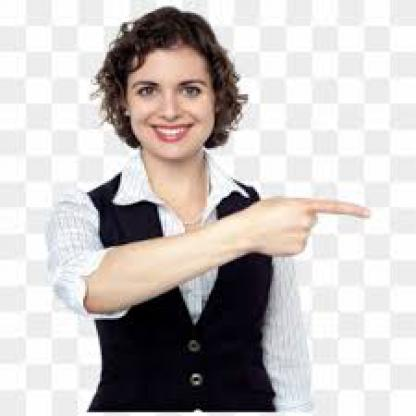Left: (230, 178, 375, 276)
